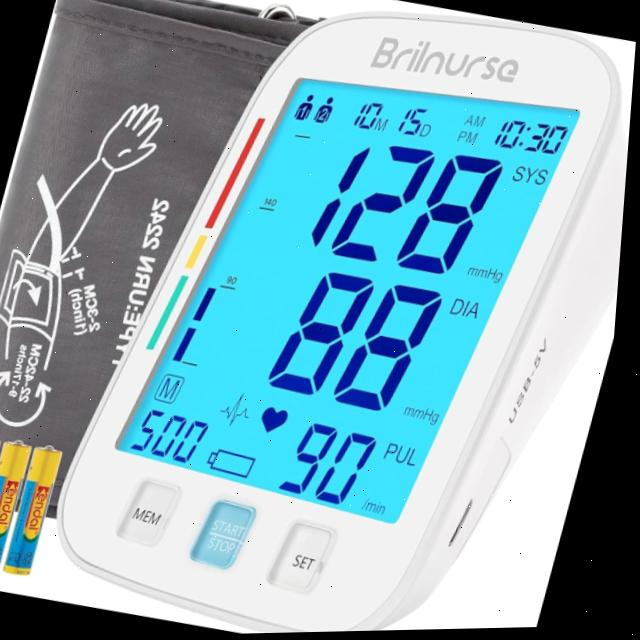dia: (258, 228, 464, 452)
pul: (270, 400, 391, 529)
ssd: (123, 0, 582, 561)
sys: (300, 127, 525, 292)
